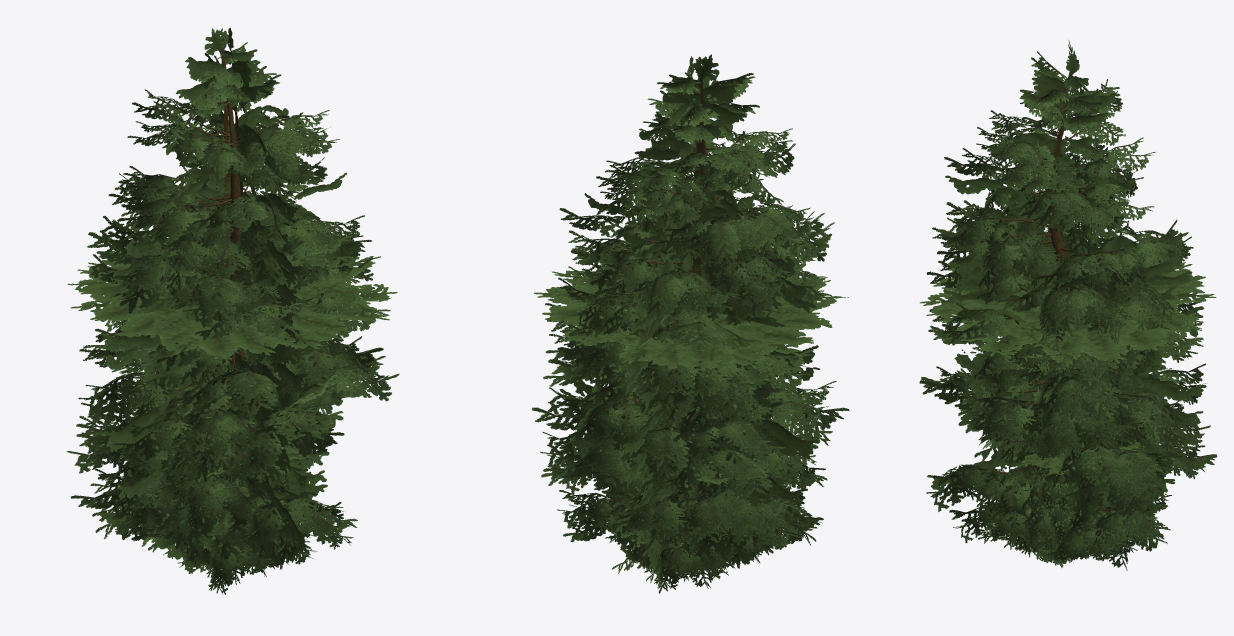
Rendered from firs.glb.
3 renders of one model, left to right at view 1: azimuth 30°, elevation 25°; view 2: azimuth 150°, elevation 25°; view 3: azimuth 270°, elevation 25°, orthographic. The views are drawn at different scales.
Visible parts, largest first — view 1: tall-0-leaf, tall-2-leaf, tall-3-card, tall-1-leaf, mid-2-leaf, tall-0-bark, tall-2-bark; view 2: tall-0-leaf, tall-1-leaf, tall-2-leaf, tall-3-card, mid-0-leaf, tall-0-bark; view 3: tall-0-leaf, tall-3-card, tall-1-leaf, tall-2-leaf, mid-0-leaf, mid-2-leaf, tall-0-bark, mid-3-card.
Boxes of the visible parts, x1,y1,x2,y2 form: tall-0-leaf: (68, 29, 399, 594); tall-2-leaf: (67, 28, 397, 573); tall-3-card: (67, 27, 397, 567); tall-1-leaf: (67, 29, 398, 572); mid-2-leaf: (152, 353, 313, 584); tall-0-bark: (155, 59, 315, 541); tall-2-bark: (222, 60, 240, 564); tall-0-leaf: (532, 55, 846, 593); tall-1-leaf: (533, 55, 844, 578); tall-2-leaf: (533, 54, 849, 578); tall-3-card: (533, 56, 848, 572); mid-0-leaf: (605, 422, 762, 586); tall-0-bark: (612, 84, 766, 544); tall-0-leaf: (919, 42, 1214, 567); tall-3-card: (920, 54, 1217, 525); tall-1-leaf: (920, 40, 1216, 565); tall-2-leaf: (921, 41, 1216, 564); mid-0-leaf: (990, 371, 1130, 570); mid-2-leaf: (994, 366, 1124, 567); tall-0-bark: (987, 73, 1140, 556); mid-3-card: (988, 367, 1144, 544).
Size of the model in its own units: 5.29 by 9.32 by 5.04.
Materials: 5 (5 with a texture image).
